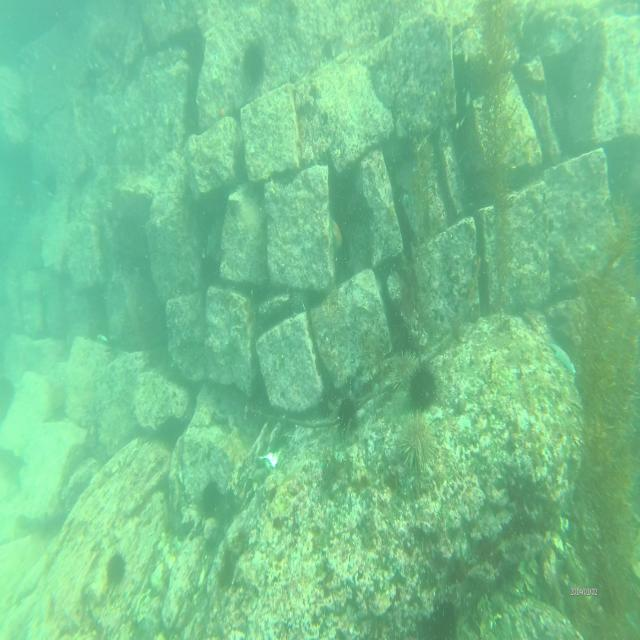echinus: (394, 410, 436, 470), (241, 37, 268, 92), (386, 350, 419, 393), (409, 368, 438, 413), (335, 391, 358, 440), (201, 477, 222, 523), (104, 551, 128, 589)
starfish: (548, 334, 580, 380), (331, 213, 344, 264)
